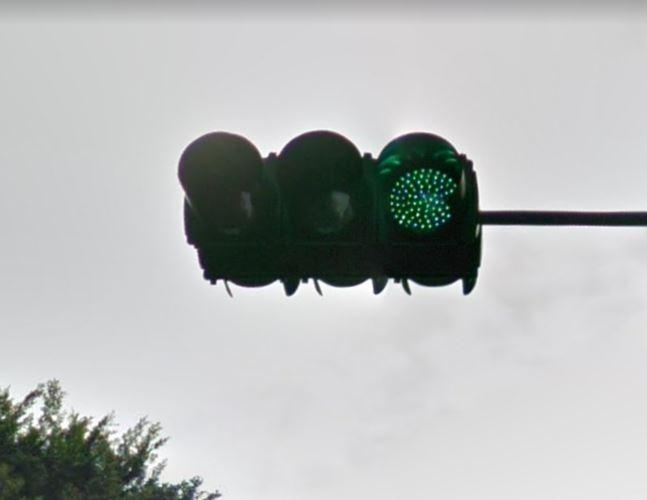green_traffic_light: (171, 128, 487, 301)
